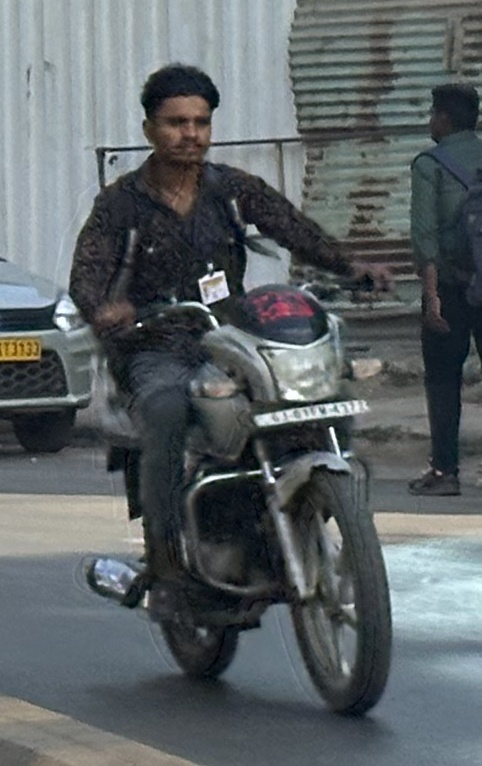BikeWithRider: (66, 61, 412, 720)
NoHelmet: (138, 62, 225, 170)
